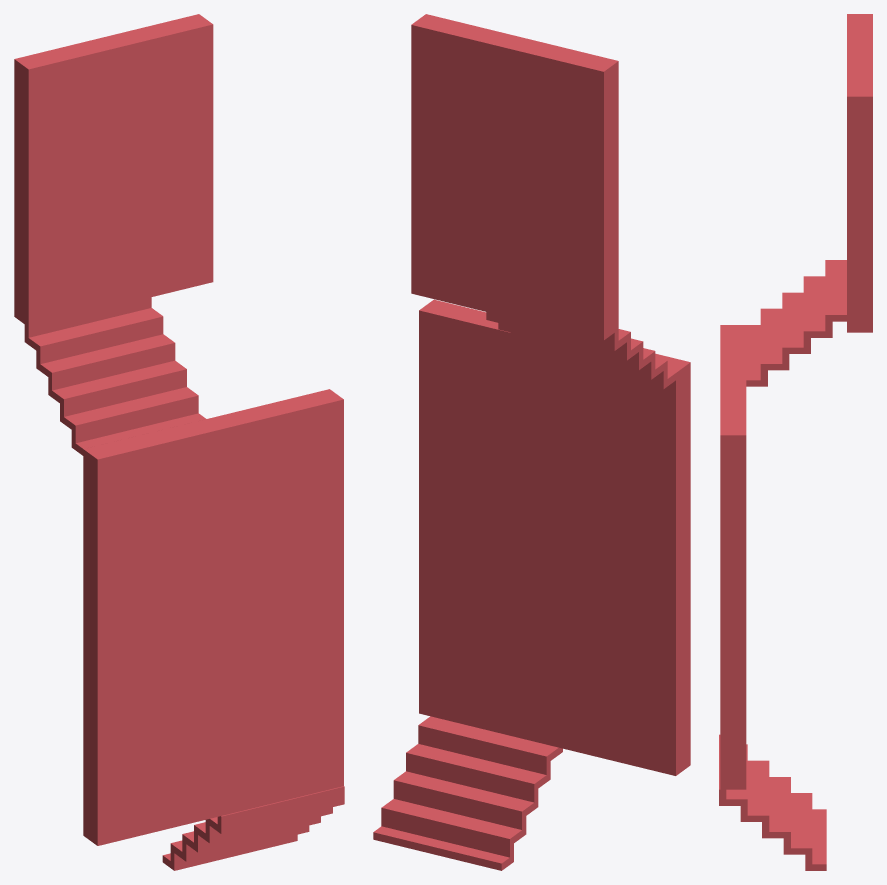
File: stage1-4.fbx
3 views of the same model, side by side, from view 1: azimuth 30°, elevation 25°; view 2: azimuth 150°, elevation 25°; view 3: azimuth 270°, elevation 25° (orthographic). The views are drawn at different scales.
Parts seen in each view (by area): view 1: Wall&Stair.3; view 2: Wall&Stair.3; view 3: Wall&Stair.3.
Part boxes in pixels (x1,y1,x2,y2): Wall&Stair.3: (14,14,344,870); Wall&Stair.3: (373,14,690,870); Wall&Stair.3: (719,14,872,870).
Size of the model in its own units: 725 by 2294 by 428.
